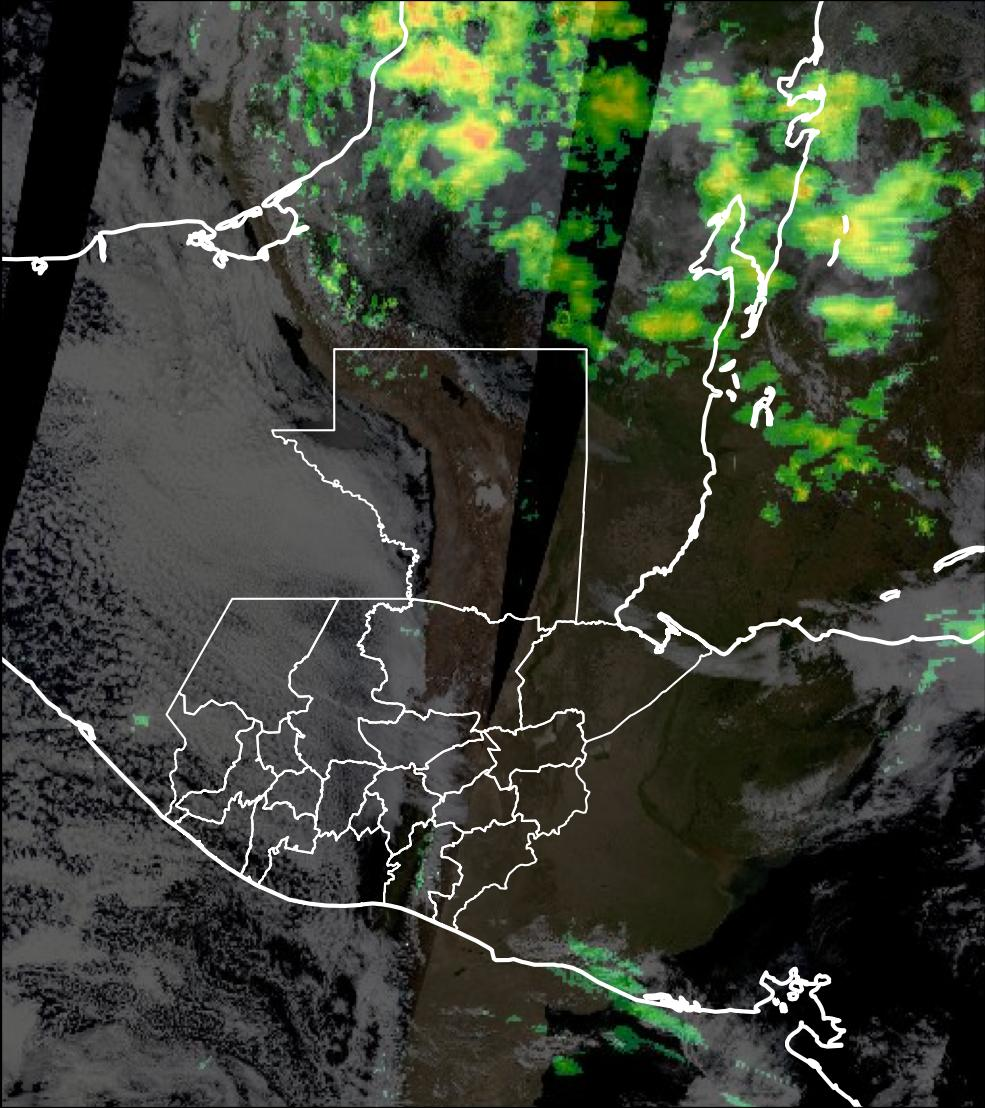precipitacion: (400, 44, 507, 176)
